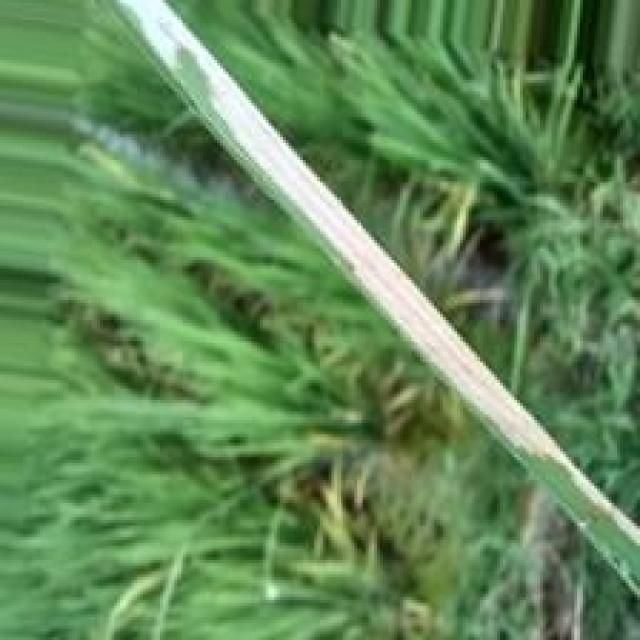Rice_Hispa: (115, 0, 640, 537)
